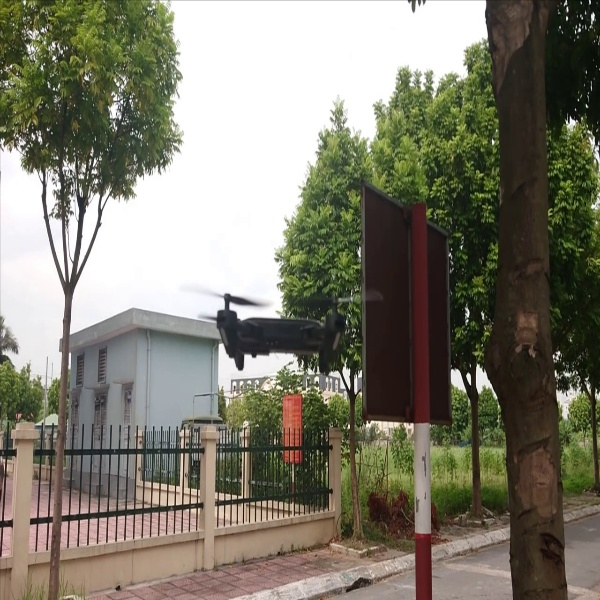drone: (200, 278, 357, 376)
